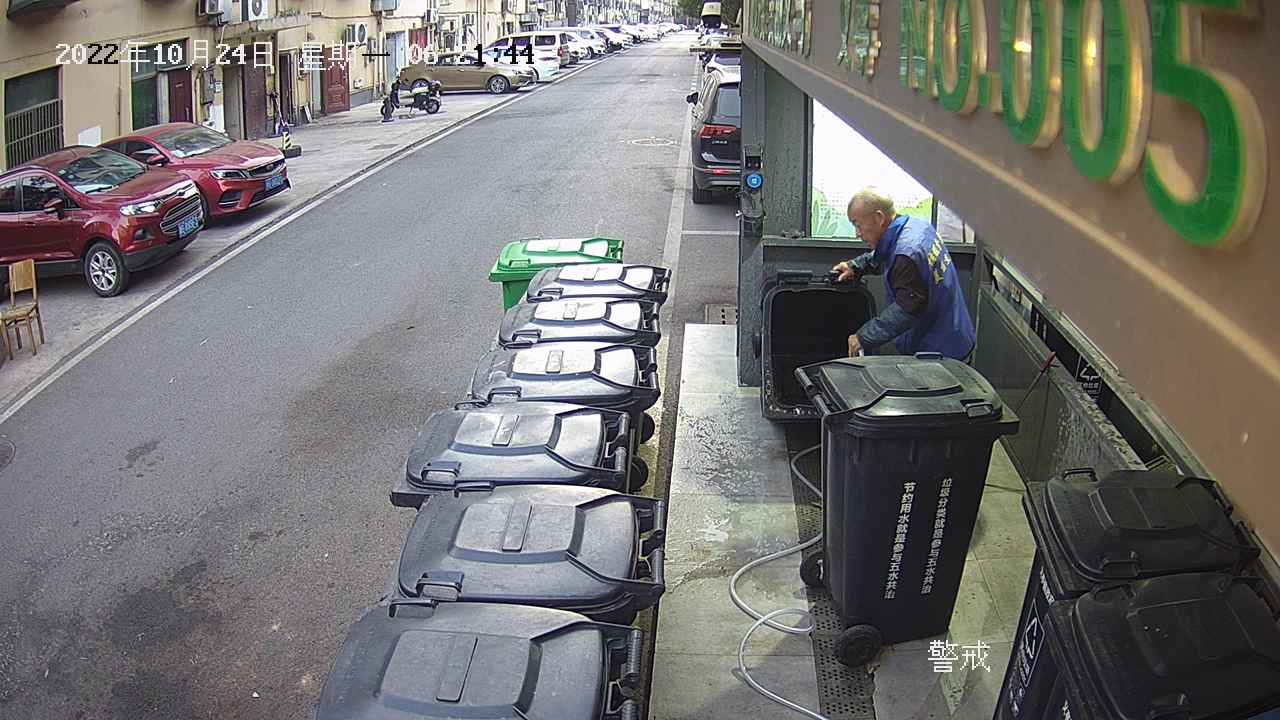worker: (824, 180, 983, 377)
